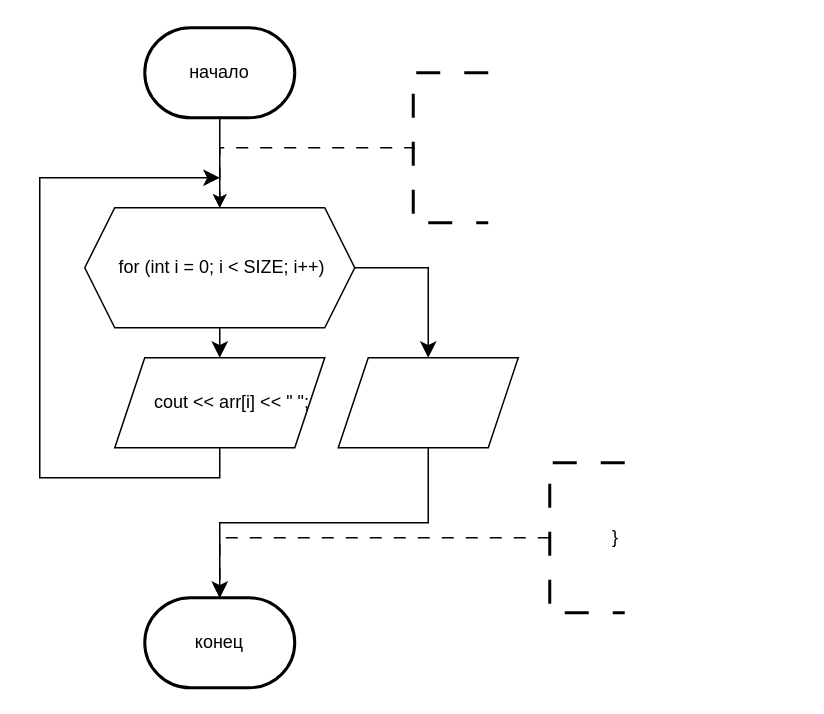
Some shapes in this 824 by 714 pixel diagram are drawn without their labels. The centre of each missing label's shape, as x and y in pixels:
cout << endl;: the point at 427,402
void show_array(int arr[], const int SIZE) {: the point at 450,147
